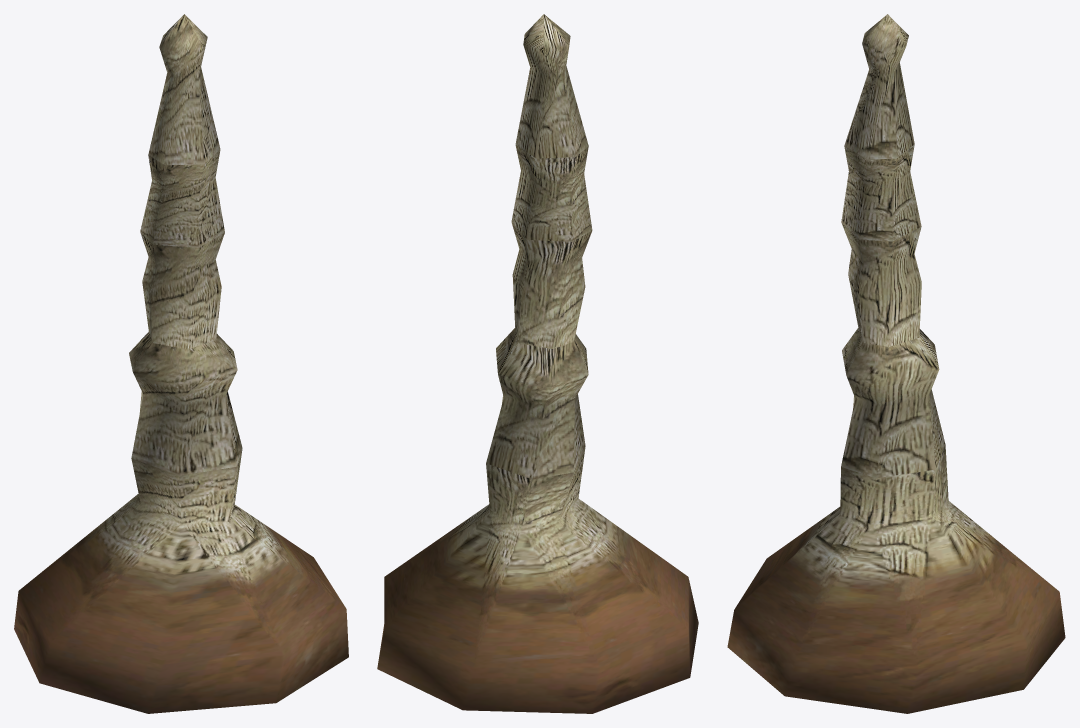
The model's file is rock_taan_stalagspire_l3.fbx.
3 renders of one model, left to right at view 1: azimuth 30°, elevation 25°; view 2: azimuth 150°, elevation 25°; view 3: azimuth 270°, elevation 25°, orthographic.
Visible parts, largest first — view 1: mesh_node; view 2: mesh_node; view 3: mesh_node.
Boxes of the visible parts, x1,y1,x2,y2 form: mesh_node: (14, 14, 348, 713); mesh_node: (377, 14, 698, 713); mesh_node: (727, 14, 1065, 713).
Bounding box in the file's own units: 7.2 × 15.75 × 7.2.
1 material, 1 textured.
